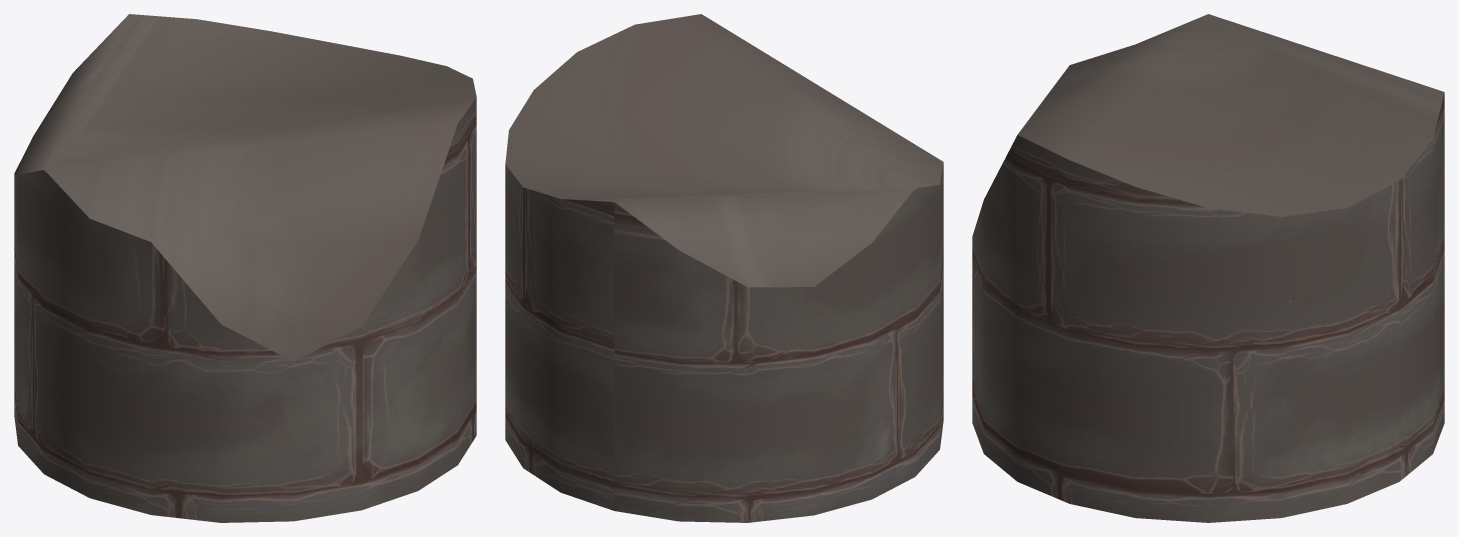
File: PillarDamaged5_3.fbx
3 renders of one model, left to right at view 1: azimuth 30°, elevation 25°; view 2: azimuth 150°, elevation 25°; view 3: azimuth 270°, elevation 25°, orthographic. The views are drawn at different scales.
Visible parts, largest first — view 1: polySurface196; view 2: polySurface196; view 3: polySurface196.
Boxes of the visible parts, <box> form: polySurface196: <box>14,14,476,522</box>; polySurface196: <box>505,14,943,522</box>; polySurface196: <box>972,14,1444,522</box>.
Bounding box in the file's own units: 22.73 × 18.43 × 22.73.
